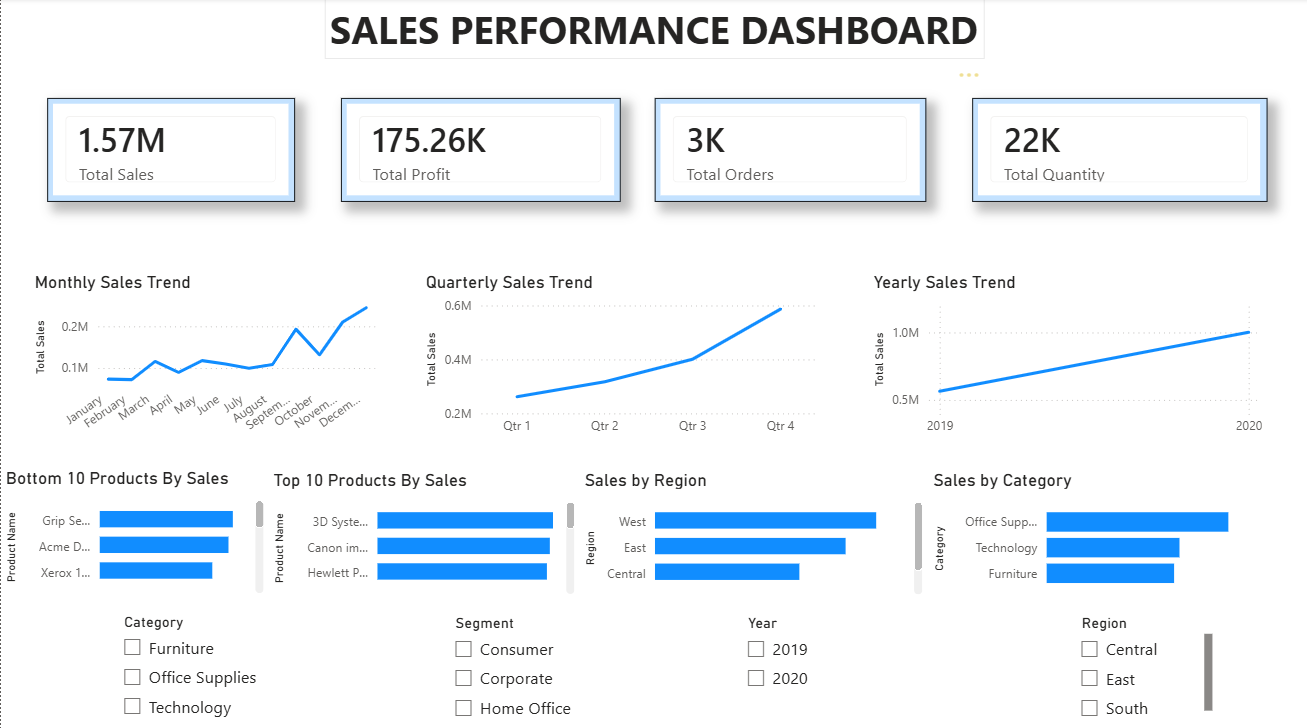

This screenshot's page, from the dashboard's own definition file:
{"tool":"powerbi","page":{"name":"Page 1","canvas":[1280,720],"ordinal":0},"visuals":[{"type":"cardVisual","fields":{"Data":["DateTable.Total Sales"]},"box":[45.2,97.8,242.1,101.5],"z":0},{"type":"cardVisual","fields":{"Data":["DateTable.Total Orders"]},"box":[639.5,97.8,265.4,101.5],"z":1000},{"type":"cardVisual","fields":{"Data":["DateTable.Total Profit"]},"box":[332.6,97.8,273.9,101.5],"z":2000},{"type":"cardVisual","fields":{"Data":["DateTable.Total Quantity"]},"box":[950.1,97.8,288.6,101.5],"z":3000},{"type":"textbox","box":[317.2,0,645.7,59.9],"z":4000},{"type":"lineChart","title":"Monthly Sales Trend","fields":{"Category":["DateTable.Date.Variation.Date Hierarchy.Year","DateTable.Date.Variation.Date Hierarchy.Month"],"Y":["DateTable.Total Sales"]},"box":[28.1,267.8,343.6,168.8],"z":5000},{"type":"lineChart","title":"Quarterly Sales Trend ","fields":{"Y":["DateTable.Total Sales"],"Category":["DateTable.Date.Variation.Date Hierarchy.Year","DateTable.Date.Variation.Date Hierarchy.Quarter"]},"box":[410.9,267.8,391.3,168.8],"z":6000},{"type":"clusteredBarChart","title":"Sales by Region","fields":{"Category":["Sheet1.Region"],"Y":["DateTable.Total Sales"]},"box":[566.7,461.1,340.3,127.6],"z":7000},{"type":"clusteredBarChart","title":"Sales by Category","fields":{"Category":["Sheet1.Category"],"Y":["DateTable.Total Sales"]},"box":[907,461.1,341.7,127.6],"z":8000},{"type":"clusteredBarChart","title":"Top 10 Products By Sales","fields":{"Y":["DateTable.Total Sales"],"Category":["Sheet1.Product Name"]},"box":[261.7,461,304.5,127.2],"z":9000},{"type":"clusteredBarChart","title":"Bottom 10 Products By Sales","fields":{"Y":["DateTable.Total Sales"],"Category":["Sheet1.Product Name"]},"box":[0,459.7,262.1,127.6],"z":10000},{"type":"slicer","fields":{"Values":["DateTable.Date.Variation.Date Hierarchy.Year"]},"box":[717.8,598,143.1,113.7],"z":11000},{"type":"slicer","fields":{"Values":["Sheet1.Region"]},"box":[1044.3,598,145.5,122.3],"z":12000},{"type":"slicer","fields":{"Values":["Sheet1.Category"]},"box":[107.6,596.7,188.3,123.5],"z":13000},{"type":"slicer","fields":{"Values":["Sheet1.Segment"]},"box":[431.7,598,146.7,118.6],"z":14000},{"type":"lineChart","title":"Yearly Sales Trend ","fields":{"Category":["DateTable.Date.Variation.Date Hierarchy.Year"],"Y":["DateTable.Total Sales"]},"box":[848.6,267.8,390.1,168.8],"z":15000}]}

Visuals, with their boxes in screenshot pixels (x1, y1, x2, y2), scaled from the page's 1280x720 canvas onto the 1307x728 screenshot:
cardVisual - DateTable.Total Sales: x1=46 y1=99 x2=293 y2=202
cardVisual - DateTable.Total Orders: x1=653 y1=99 x2=924 y2=202
cardVisual - DateTable.Total Profit: x1=340 y1=99 x2=619 y2=202
cardVisual - DateTable.Total Quantity: x1=970 y1=99 x2=1265 y2=202
textbox: x1=324 y1=0 x2=983 y2=61
"Monthly Sales Trend" lineChart: x1=29 y1=271 x2=380 y2=441
"Quarterly Sales Trend " lineChart: x1=420 y1=271 x2=819 y2=441
"Sales by Region" clusteredBarChart: x1=579 y1=466 x2=926 y2=595
"Sales by Category" clusteredBarChart: x1=926 y1=466 x2=1275 y2=595
"Top 10 Products By Sales" clusteredBarChart: x1=267 y1=466 x2=578 y2=595
"Bottom 10 Products By Sales" clusteredBarChart: x1=0 y1=465 x2=268 y2=594
slicer - DateTable.Date.Variation.Date Hierarchy.Year: x1=733 y1=605 x2=879 y2=720
slicer - Sheet1.Region: x1=1066 y1=605 x2=1215 y2=727
slicer - Sheet1.Category: x1=110 y1=603 x2=302 y2=727
slicer - Sheet1.Segment: x1=441 y1=605 x2=591 y2=725
"Yearly Sales Trend " lineChart: x1=867 y1=271 x2=1265 y2=441
